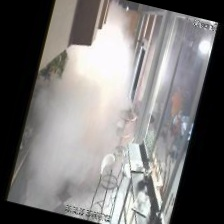smoke: (24, 0, 157, 181)
